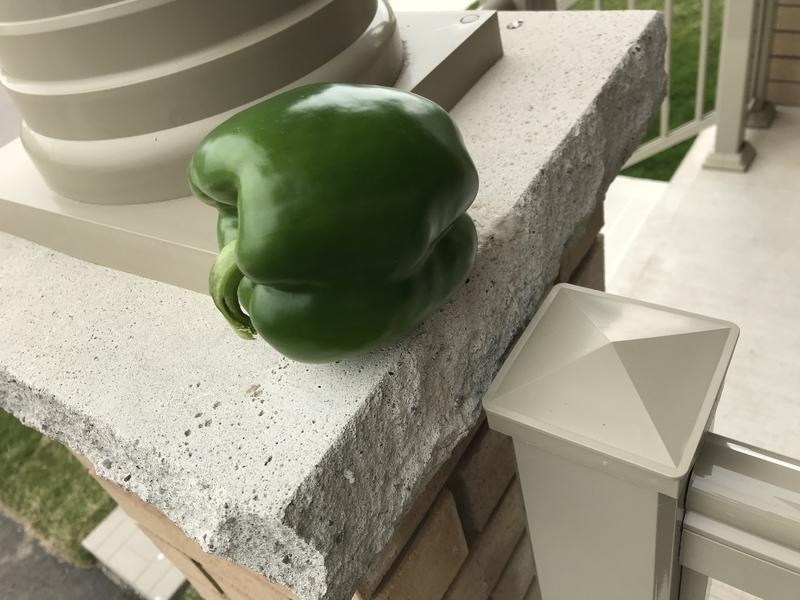green_pepper: (167, 67, 494, 381)
